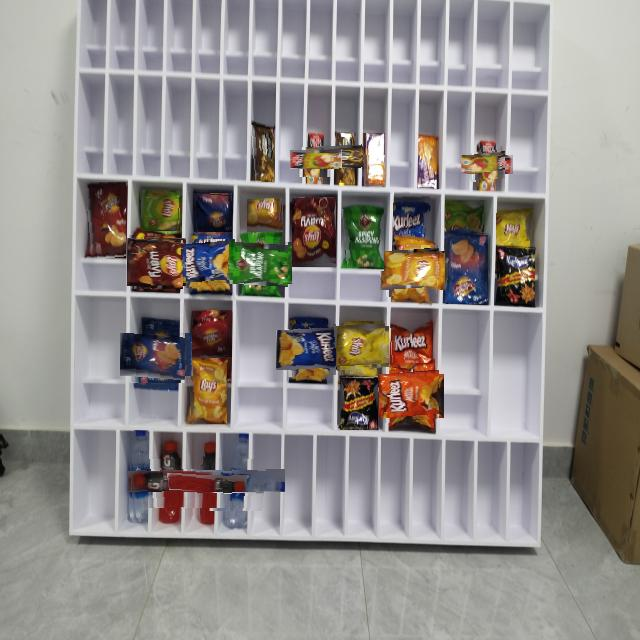Plastic: (208, 451, 267, 511), (127, 325, 185, 383), (85, 182, 126, 260), (291, 197, 336, 267), (445, 231, 488, 304), (384, 368, 439, 423), (341, 203, 384, 271), (130, 235, 184, 289), (282, 324, 336, 377), (144, 454, 196, 508), (386, 245, 439, 297), (235, 237, 288, 289), (187, 358, 227, 424), (181, 457, 232, 508), (186, 239, 236, 288), (337, 321, 386, 371), (496, 246, 535, 305), (341, 376, 378, 430), (127, 430, 148, 522), (192, 310, 232, 358), (389, 321, 432, 363), (141, 190, 181, 230), (193, 192, 232, 232), (327, 137, 365, 177), (250, 119, 274, 182), (393, 196, 430, 235), (496, 208, 535, 244), (468, 146, 505, 182), (298, 141, 334, 177), (417, 133, 440, 189), (362, 132, 385, 186), (446, 200, 486, 231), (248, 198, 284, 232)
